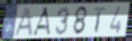3: (54, 6, 70, 36)
4: (108, 5, 122, 35)
8: (72, 5, 89, 36)
A: (13, 6, 34, 38), (32, 6, 52, 36)
T: (93, 7, 107, 35)
